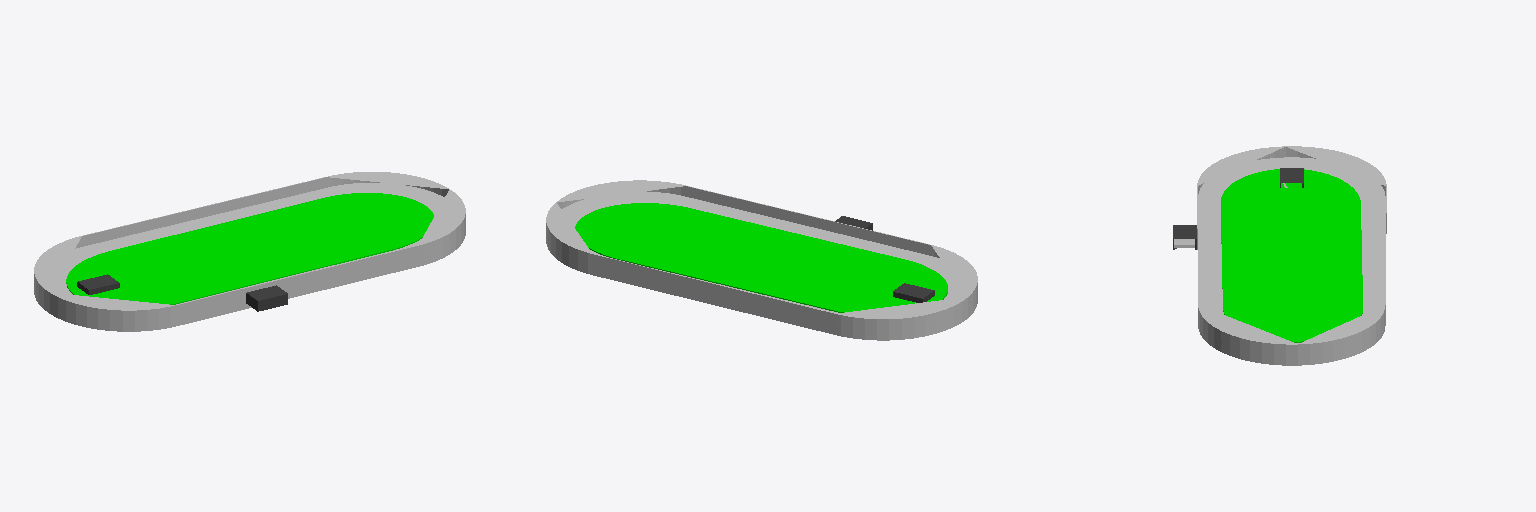
The model's file is newStadium1.obj.
3 renders of one model, left to right at view 1: azimuth 30°, elevation 25°; view 2: azimuth 150°, elevation 25°; view 3: azimuth 270°, elevation 25°, orthographic.
Parts seen in each view (by area): view 1: ground_Cylinder.001, LBarrier_Cylinder.004, BBarrier_Cube.004, Track_Cylinder.003, RBarrier_Cylinder.006, TBarrier_Cube.005, ET_Barrier.001_Cube.003, ET_Barrier_Cube.001; view 2: ground_Cylinder.001, LBarrier_Cylinder.004, TBarrier_Cube.005, Track_Cylinder.003, RBarrier_Cylinder.006, BBarrier_Cube.004, ET_Barrier_Cube.001; view 3: ground_Cylinder.001, Track_Cylinder.003, RBarrier_Cylinder.006, LBarrier_Cylinder.004.
Boxes of the visible parts, <box> form: ground_Cylinder.001: <box>66,193,433,304</box>; LBarrier_Cylinder.004: <box>34,236,175,331</box>; BBarrier_Cube.004: <box>176,245,418,325</box>; Track_Cylinder.003: <box>51,183,462,304</box>; RBarrier_Cylinder.006: <box>326,172,465,266</box>; TBarrier_Cube.005: <box>82,177,325,246</box>; ET_Barrier.001_Cube.003: <box>246,285,287,311</box>; ET_Barrier_Cube.001: <box>77,274,119,294</box>; ground_Cylinder.001: <box>575,203,947,312</box>; LBarrier_Cylinder.004: <box>836,245,977,340</box>; TBarrier_Cube.005: <box>593,254,835,334</box>; Track_Cylinder.003: <box>553,191,966,313</box>; RBarrier_Cylinder.006: <box>546,180,685,274</box>; BBarrier_Cube.004: <box>686,186,929,255</box>; ET_Barrier_Cube.001: <box>893,283,934,302</box>; ground_Cylinder.001: <box>1221,169,1362,342</box>; Track_Cylinder.003: <box>1198,157,1384,356</box>; RBarrier_Cylinder.006: <box>1198,305,1384,365</box>; LBarrier_Cylinder.004: <box>1197,146,1386,195</box>.
Bounding box in the file's own units: 40.07 × 2 × 18.24.